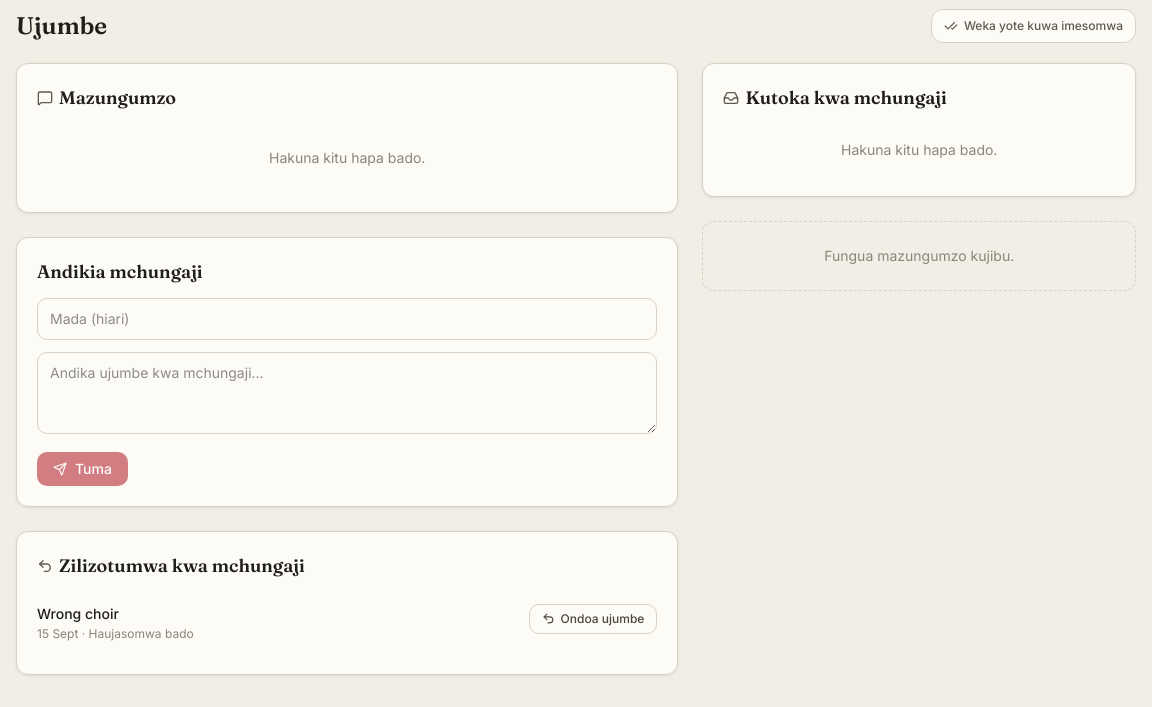
Scenario: Messages: recalling a message sent to the pastor › reads in Kiswahili too
(page scrolled)
Expected: the text "15 Sept · Haujasomwa bado" is shown, [37, 626, 194, 640]
What coordinates should you click on to do the following:
click the button "Ondoa ujumbe"
I would click on:
 (593, 618)
Its box is [529, 604, 657, 634].
(page scrolled)
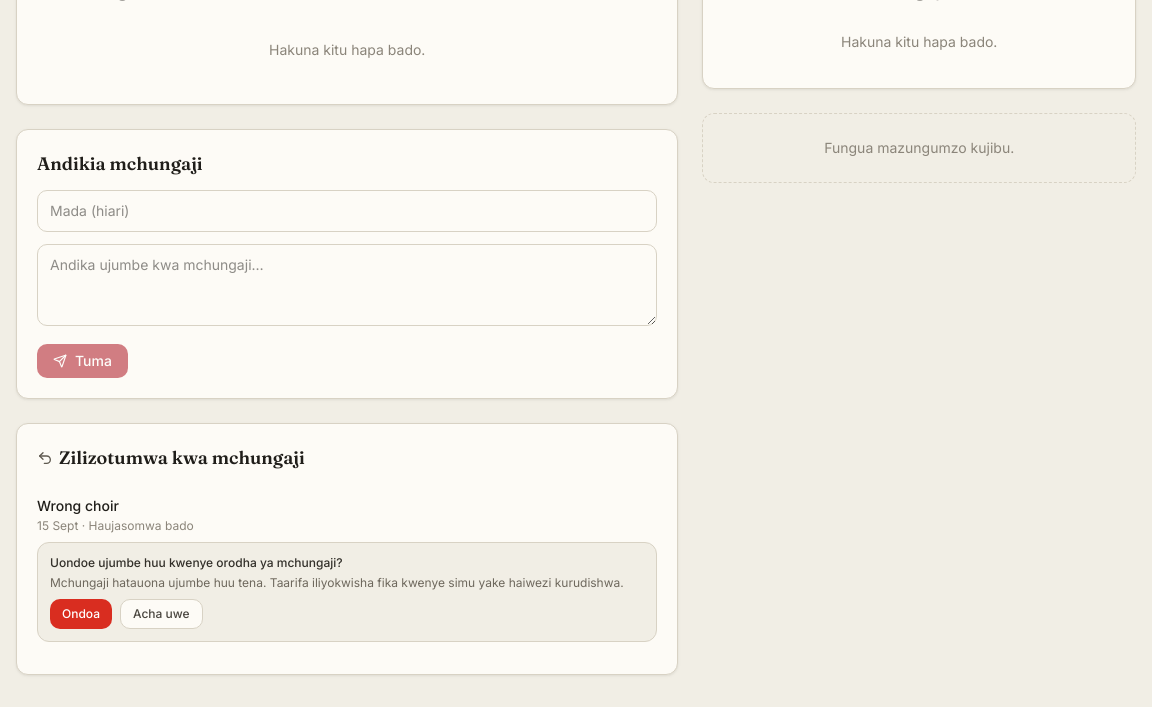
Expected: the button "Ondoa" is shown, [50, 598, 112, 628]
Expected: the text "Uondoe ujumbe huu kwenye orodha ya mchungaji?" is shown, [50, 554, 343, 570]
Expected: the button "Acha uwe" is shown, [120, 598, 203, 628]
